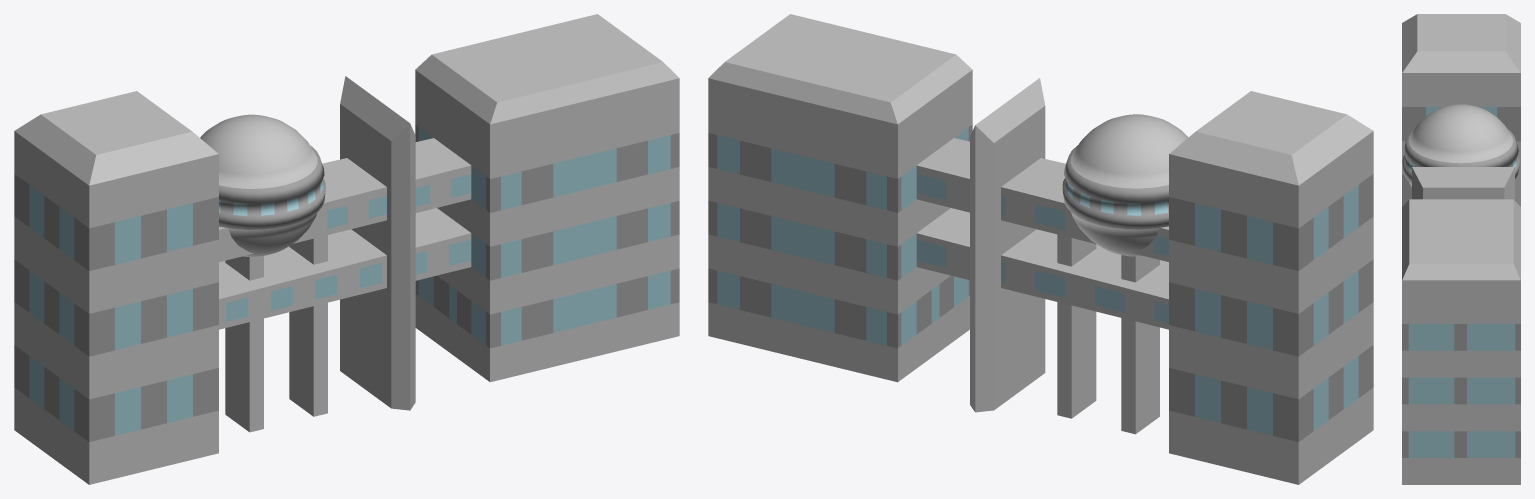
The model's file is fujitelvision 1.fbx.
The picture shows the model from 3 angles, left to right: view 1: azimuth 30°, elevation 25°; view 2: azimuth 150°, elevation 25°; view 3: azimuth 270°, elevation 25°; orthographic projection. The views are drawn at different scales.
Parts seen in each view (by area): view 1: Cube; view 2: Cube; view 3: Cube.
Boxes of the visible parts, box(x1,y1,x2,y2) form: Cube: box(14, 14, 679, 484); Cube: box(708, 14, 1373, 484); Cube: box(1402, 14, 1520, 484).
Bounding box in the file's own units: 8233 × 4414 × 1808.
